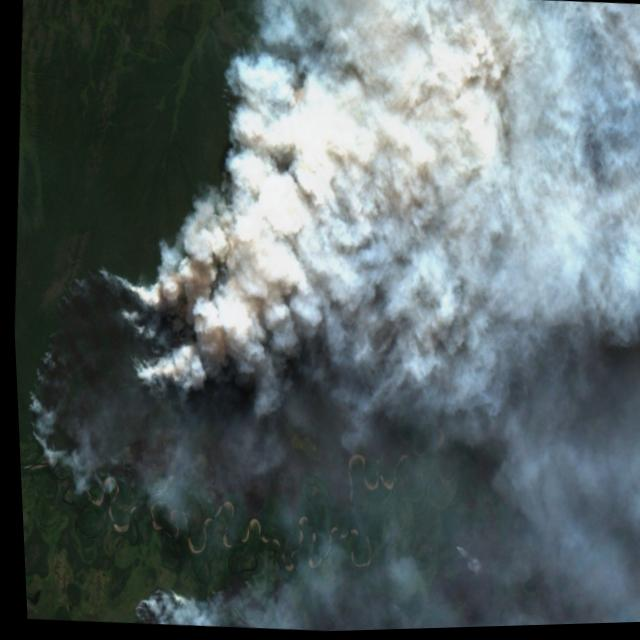fire: (2, 36, 309, 510), (121, 559, 241, 631)
